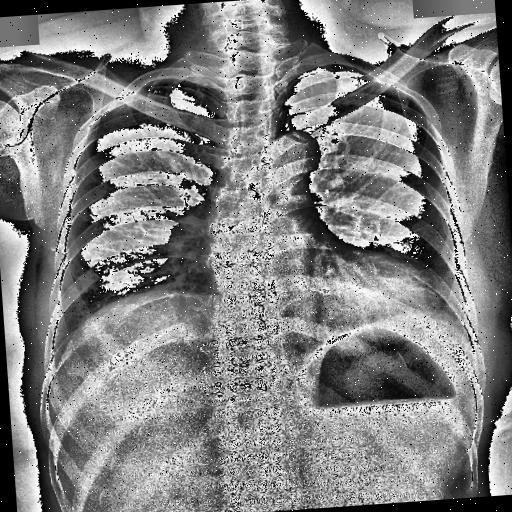0- Aortic enlargement: (264, 127, 322, 192), (260, 127, 328, 176), (270, 128, 323, 174)
3- Cardiomegaly: (200, 230, 436, 332), (203, 237, 429, 335), (208, 238, 438, 328)
